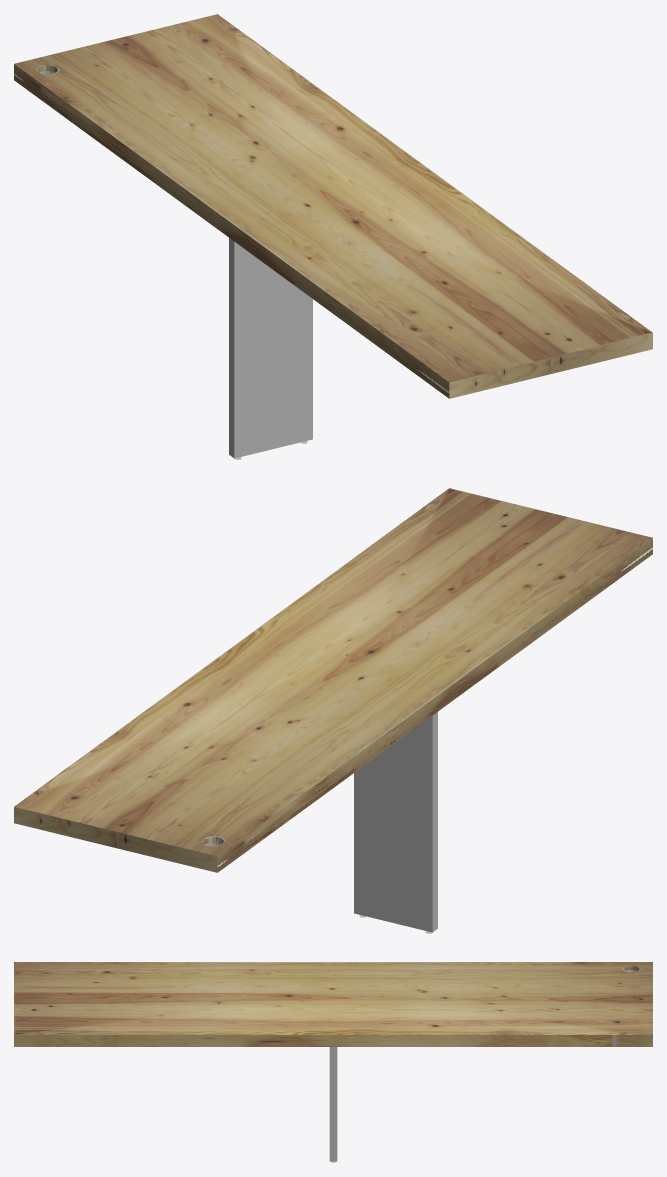
File: work_desk.dae
The picture shows the model from 3 angles, top to bottom: view 1: azimuth 30°, elevation 25°; view 2: azimuth 150°, elevation 25°; view 3: azimuth 270°, elevation 25°; orthographic projection. The views are drawn at different scales.
Visible parts, largest first — view 1: table, support, rvs; view 2: table, support, rvs; view 3: table, rvs, support.
Part boxes in pixels (<box>): table: <box>14,14,652,382</box>; support: <box>229,238,312,458</box>; rvs: <box>14,64,652,398</box>; table: <box>14,488,652,856</box>; support: <box>354,712,437,932</box>; rvs: <box>14,538,652,872</box>; table: <box>14,962,652,1034</box>; rvs: <box>14,967,652,1046</box>; support: <box>329,1047,337,1161</box>.
Bounding box in the file's own units: 25.5 × 94.43 × 28.33.
3 materials, 1 textured.
